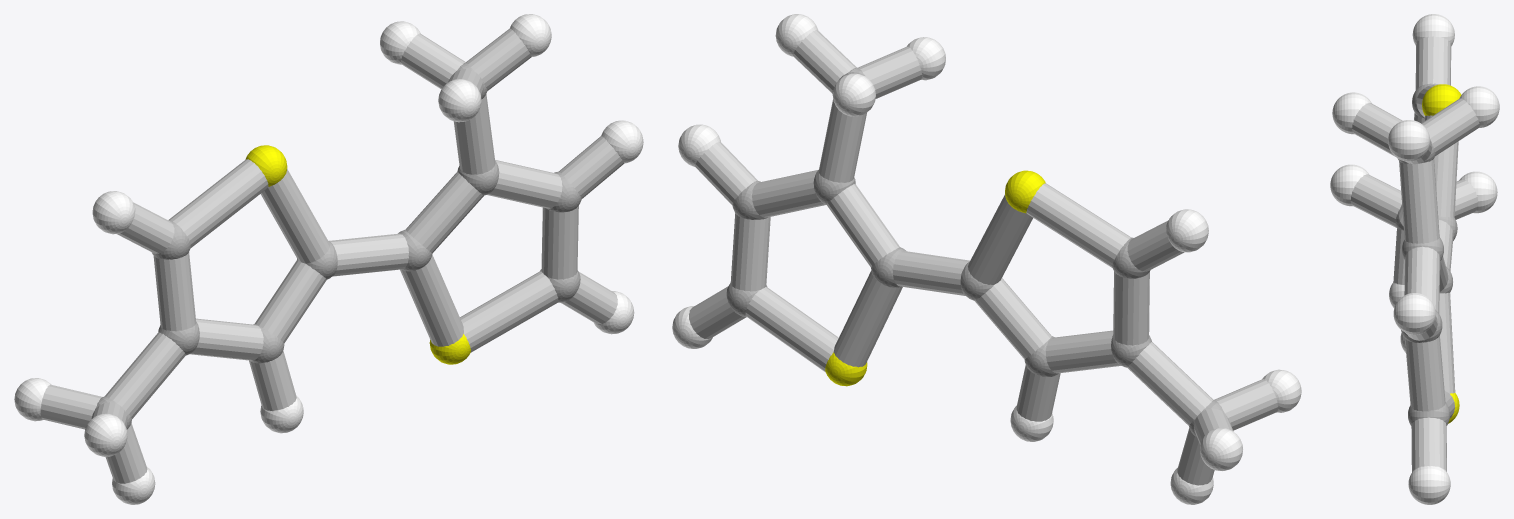
File: Methylthiophene_Phi_5_Theta_10_Methylthiophene.glb
The picture shows the model from 3 angles, left to right: view 1: azimuth 30°, elevation 25°; view 2: azimuth 150°, elevation 25°; view 3: azimuth 270°, elevation 25°; orthographic projection. The views are drawn at different scales.
Visible parts, largest first — view 1: grp7965, grp3621, grp1, grp7241; view 2: grp7965, grp3621, grp1, grp7241; view 3: grp7965, grp3621, grp1, grp7241.
Part boxes in pixels (<box>): grp7965: <box>40,28,624,483</box>; grp3621: <box>14,14,643,504</box>; grp1: <box>95,63,581,429</box>; grp7241: <box>245,145,470,364</box>; grp7965: <box>689,30,1278,485</box>; grp3621: <box>672,14,1301,504</box>; grp1: <box>726,67,1224,436</box>; grp7241: <box>825,170,1045,386</box>; grp7965: <box>1350,36,1479,471</box>; grp3621: <box>1330,14,1499,504</box>; grp1: <box>1395,83,1457,425</box>; grp7241: <box>1422,84,1461,423</box>.
Bounding box in the file's own units: 9.44 × 5.96 × 2.41.
